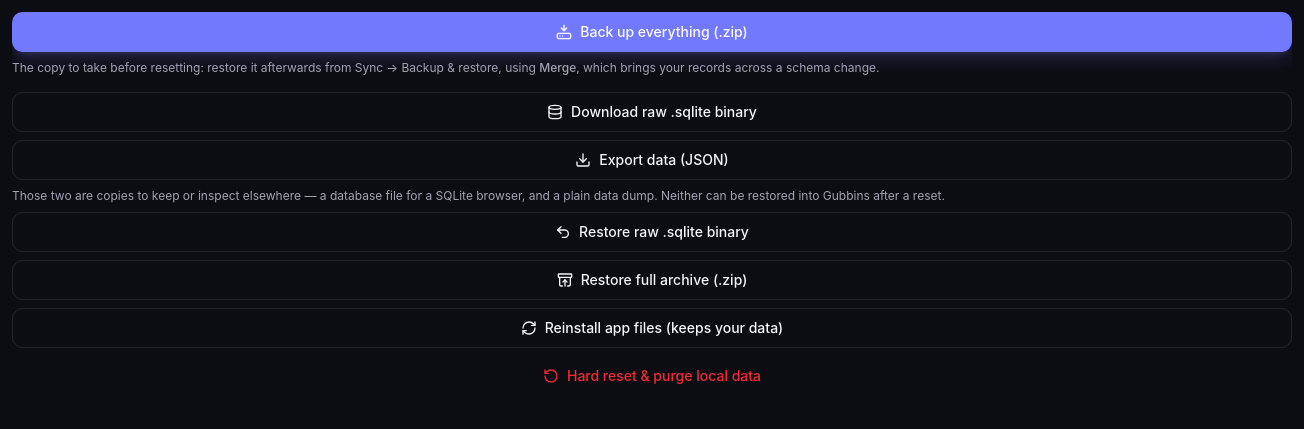
RescueActions › falls back to the action’s own copy when the thrown value says nothing human
Click the button "Export data (JSON)".
click(652, 160)  # box [12,140,1292,180]
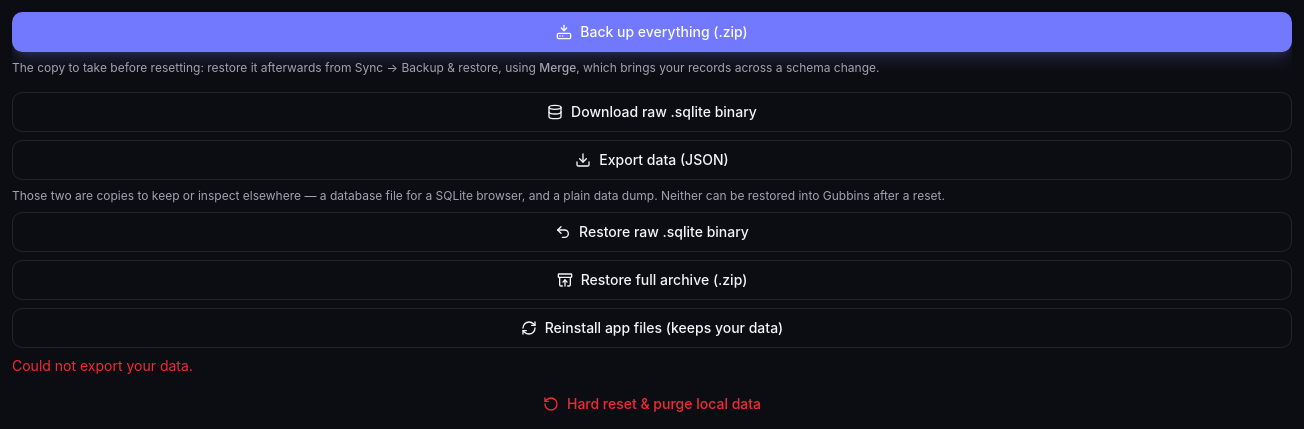
Expected: the message reads "Could not export your data.", [12,357,193,374]
